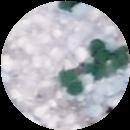Basil: (60, 72, 84, 98), (89, 40, 107, 59), (110, 47, 128, 66)
